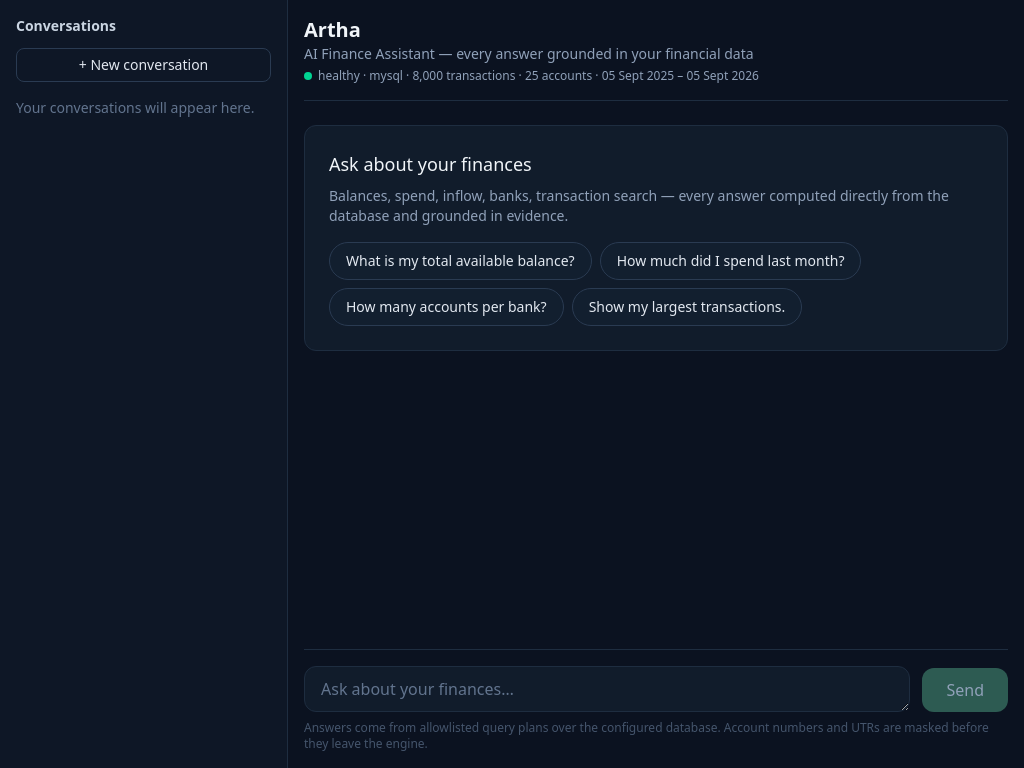
Test case: revalidates health after a network-class chat failure
Expected: the text "healthy · mysql" is shown, [318,68,759,84]
In the text box named "Ask a question": [607, 689] box [304,666,910,712], type "How much did I spend?"
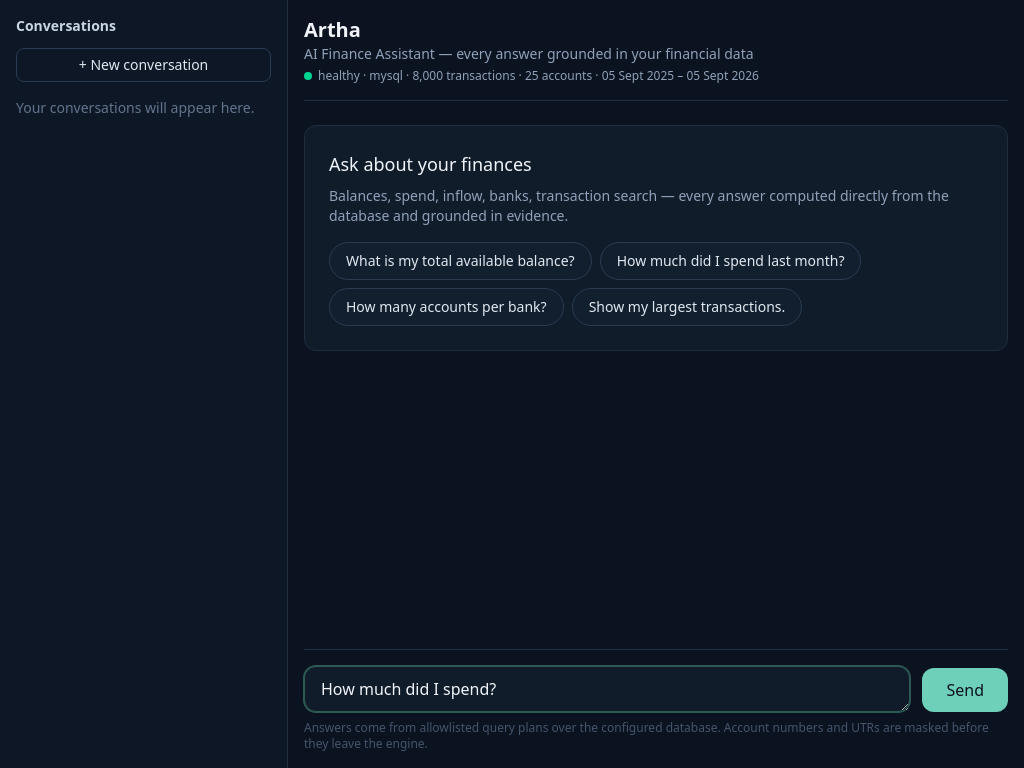
Click the button "Send": [965, 690] box [922,668,1008,712]
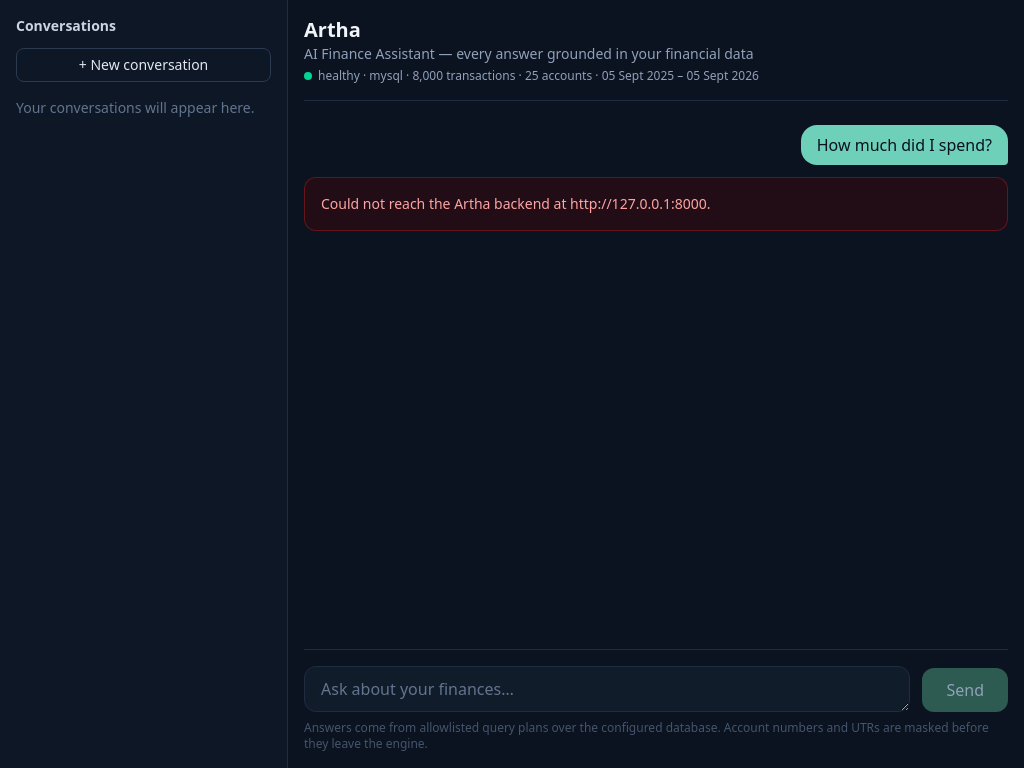
Result: the message shows "Could not reach the Artha backend" at [321,194,710,213]
